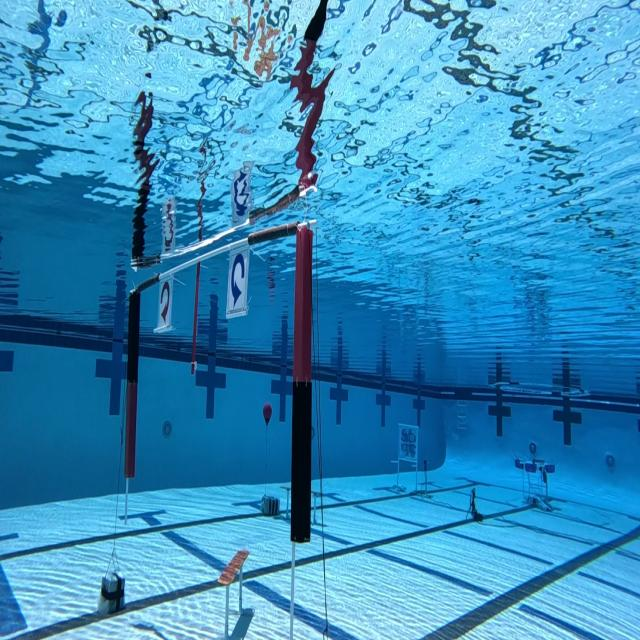blue_side: (228, 238, 250, 322)
red_side: (155, 267, 173, 332)
